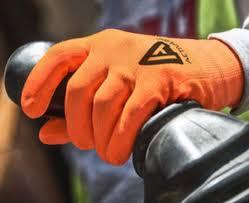gloves: (20, 27, 244, 165)
